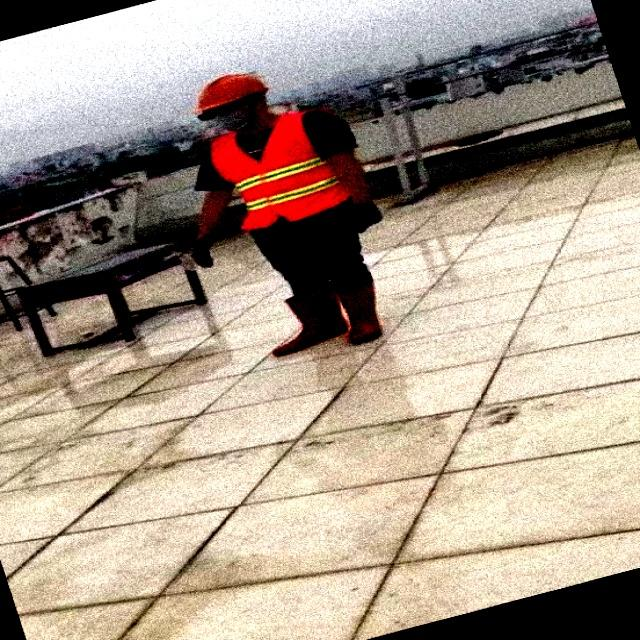Capacete: (194, 74, 267, 115)
Colete: (211, 112, 349, 230)
